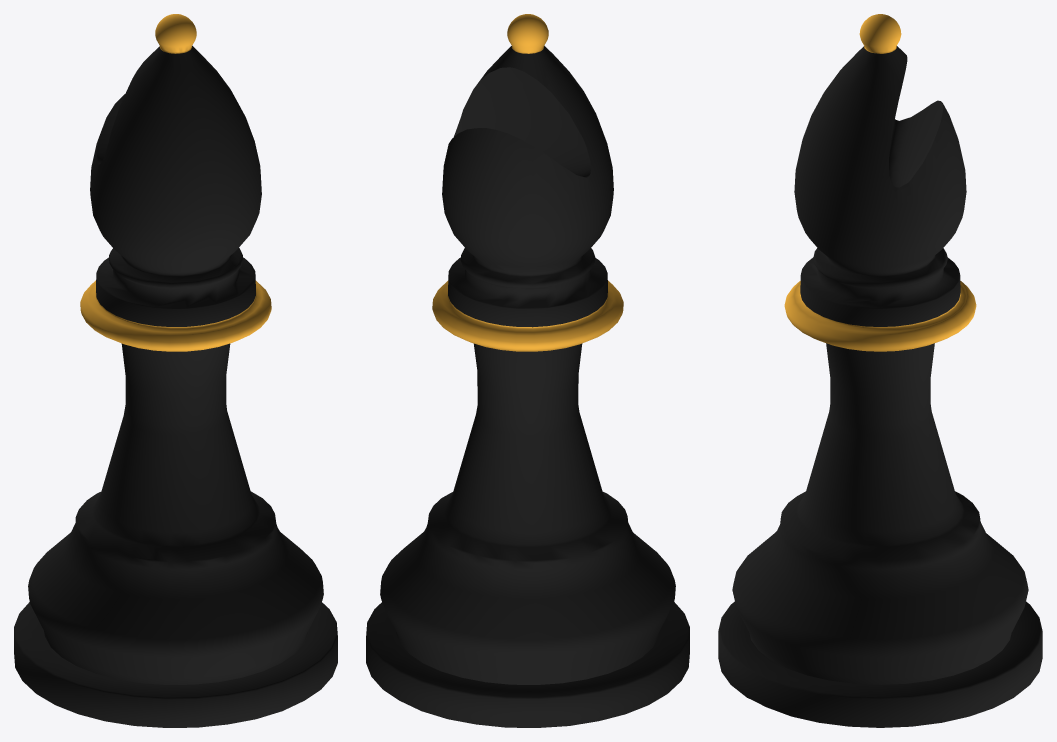
Rendered from gercek6_b_b.glb.
3 renders of one model, left to right at view 1: azimuth 30°, elevation 25°; view 2: azimuth 150°, elevation 25°; view 3: azimuth 270°, elevation 25°, orthographic.
Parts seen in each view (by area): view 1: b_b_0, b_b_1; view 2: b_b_0, b_b_1; view 3: b_b_0, b_b_1.
Boxes of the visible parts, bbox=[...] form: b_b_0: bbox=[14, 45, 337, 727]; b_b_1: bbox=[80, 14, 271, 351]; b_b_0: bbox=[366, 45, 689, 727]; b_b_1: bbox=[432, 14, 623, 351]; b_b_0: bbox=[718, 46, 1042, 727]; b_b_1: bbox=[784, 14, 976, 351].
Size of the model in its own units: 0.4102 by 0.8997 by 0.4102.
